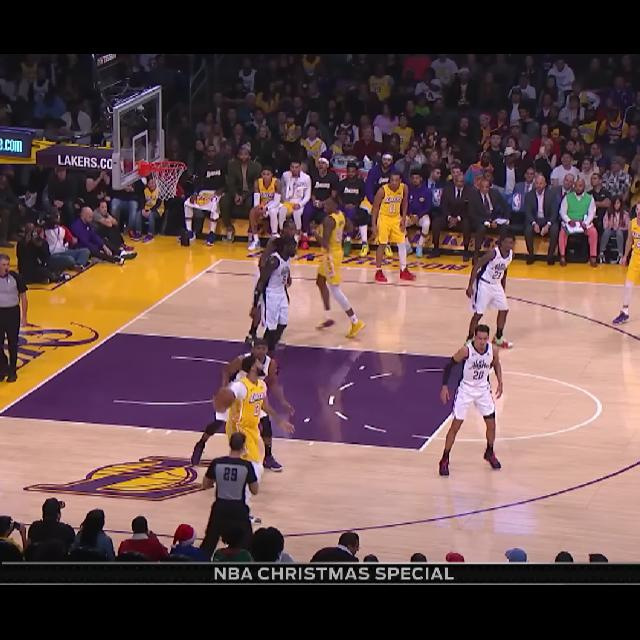basketball: (214, 386, 236, 407)
hoop: (136, 149, 187, 205)
person: (304, 199, 368, 335), (446, 335, 504, 474), (470, 231, 517, 353), (257, 227, 300, 360), (373, 173, 416, 287), (617, 196, 640, 332)
